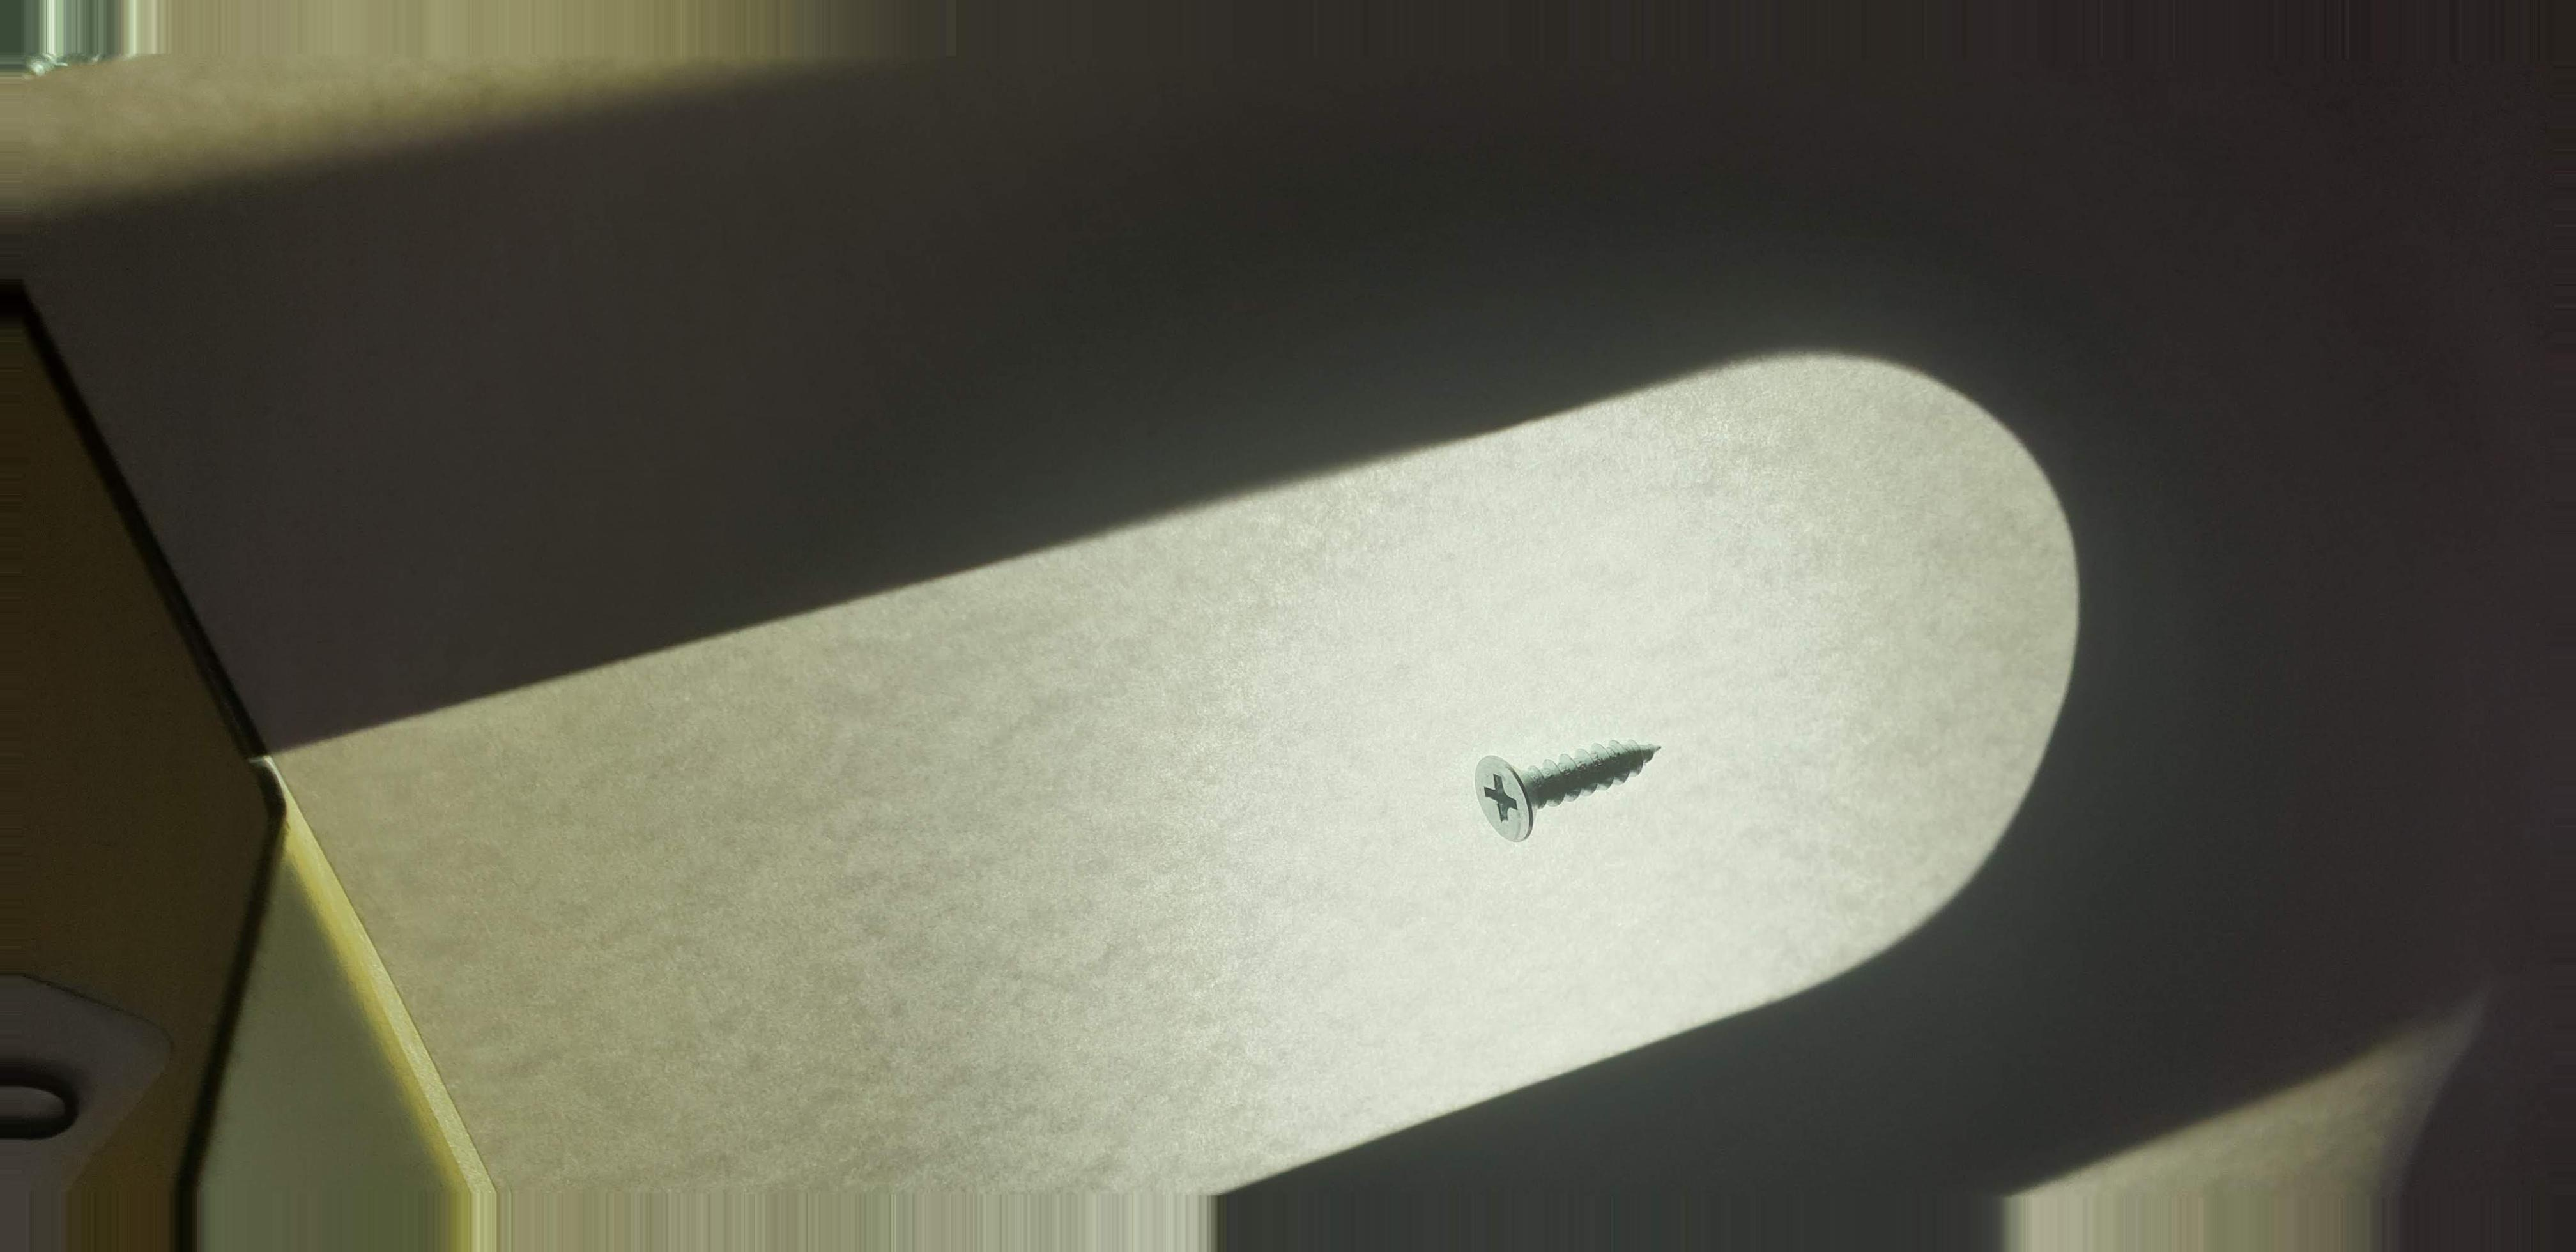S003: (1454, 715, 1692, 853)
